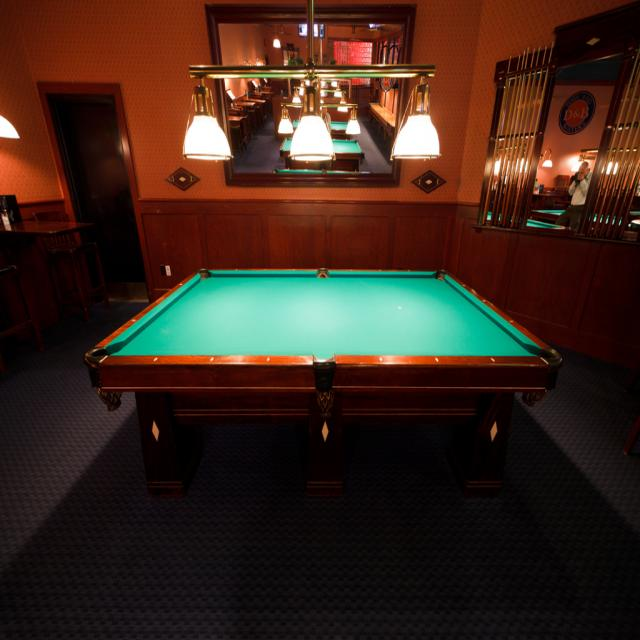Billiard table: (83, 267, 583, 500)
